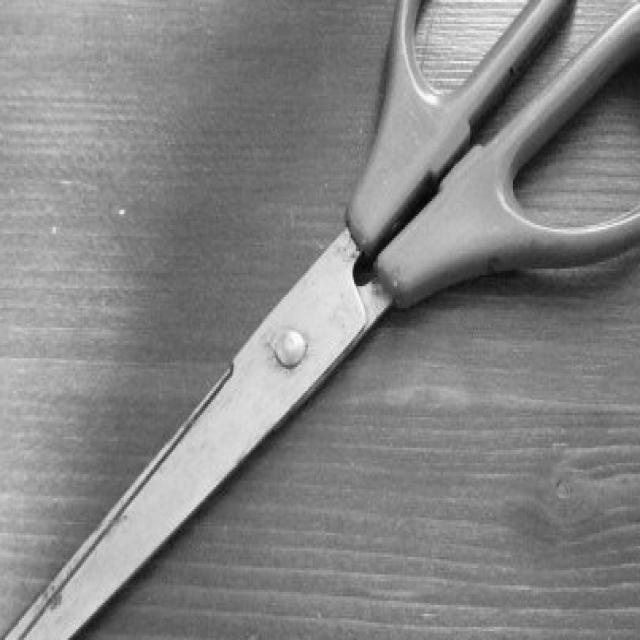tesoura: (3, 0, 639, 639)
